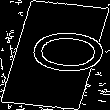O_E: (5, 29, 105, 81)
